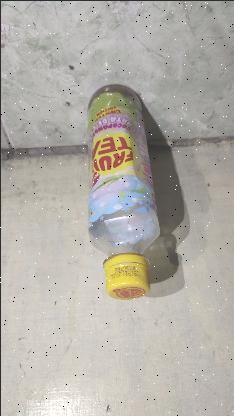Plastic Bottle: (86, 84, 160, 300)
